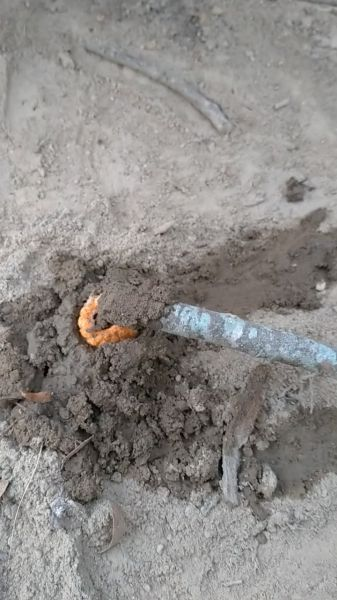eggs: (76, 293, 140, 348)
